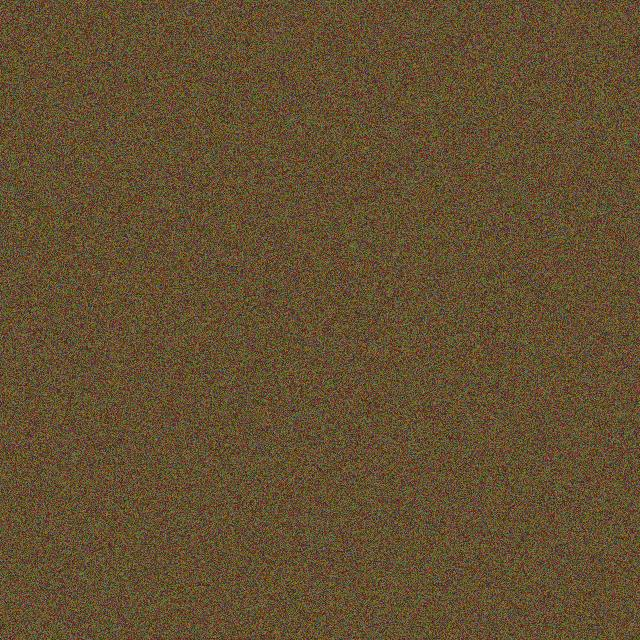unknown_man_made_object: (237, 367, 304, 409)
